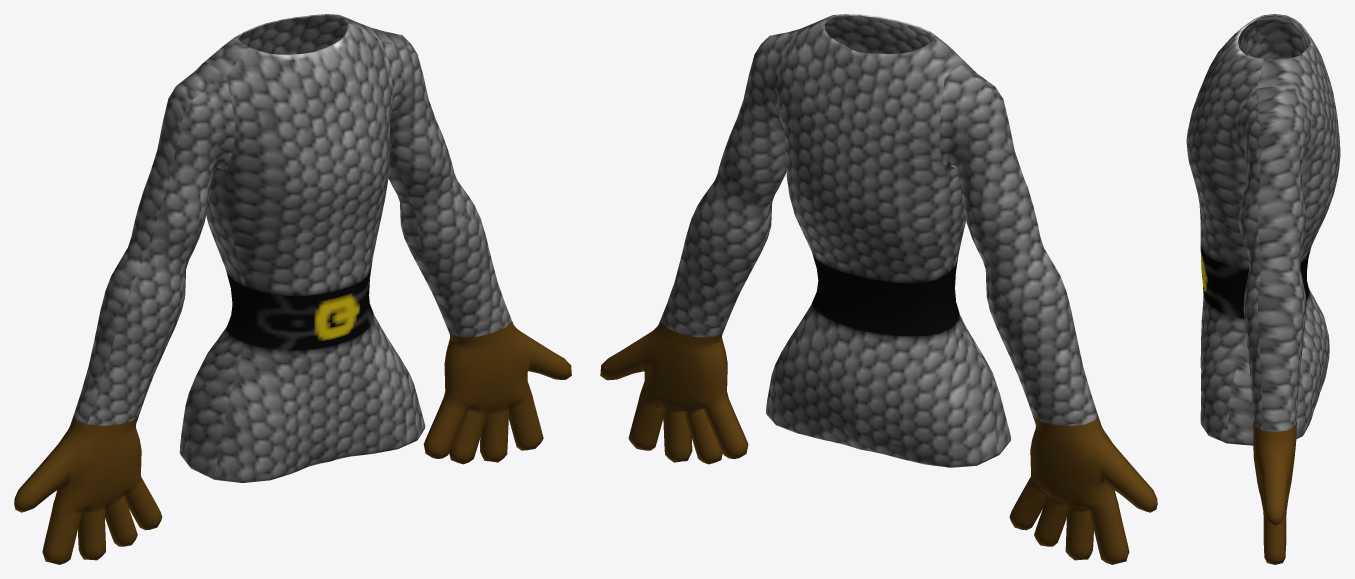
Rendered from PickupArmourScaleMail.dae.
3 renders of one model, left to right at view 1: azimuth 30°, elevation 25°; view 2: azimuth 150°, elevation 25°; view 3: azimuth 270°, elevation 25°, orthographic. The views are drawn at different scales.
Visible parts, largest first — view 1: PickupArmourScale; view 2: PickupArmourScale; view 3: PickupArmourScale.
Part boxes in pixels (x1,y1,x2,y2): PickupArmourScale: [14, 14, 571, 564]; PickupArmourScale: [600, 14, 1157, 564]; PickupArmourScale: [1186, 14, 1340, 564].
Bounding box in the file's own units: 1.14 × 0.3062 × 0.9401.
Materials: 1 (1 with a texture image).
